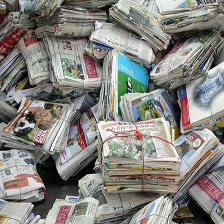news_paper: (93, 116, 179, 196), (158, 114, 224, 207), (73, 165, 176, 224), (148, 20, 224, 94), (51, 97, 110, 183), (0, 94, 82, 153), (42, 30, 106, 98), (97, 48, 150, 124), (173, 54, 223, 134), (117, 80, 181, 138), (81, 19, 159, 66), (107, 0, 174, 54), (183, 142, 224, 224), (29, 4, 114, 41), (0, 143, 49, 205), (15, 24, 58, 91), (156, 0, 223, 41), (40, 189, 104, 224), (118, 195, 179, 224), (0, 10, 33, 55), (0, 45, 26, 92), (0, 197, 43, 224), (20, 0, 70, 21)
